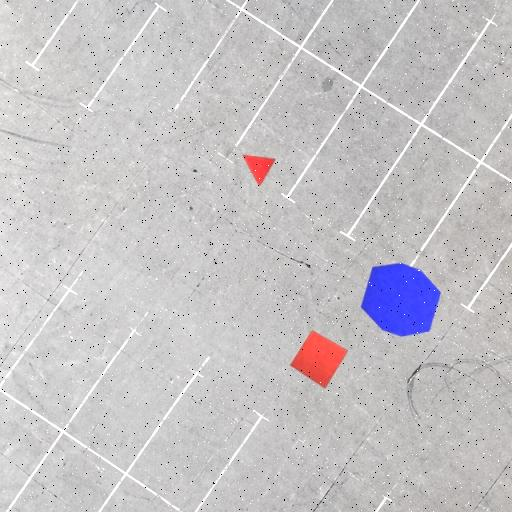RED_SQUARE: (290, 330, 348, 390)
